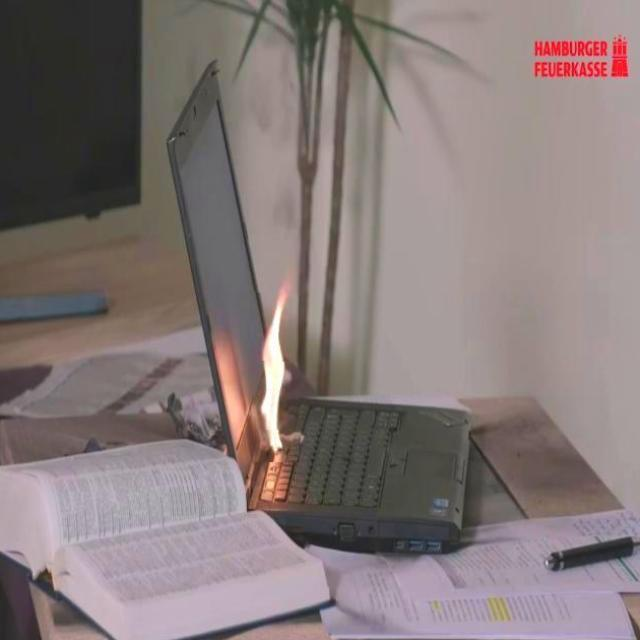smoke: (252, 257, 299, 462)
